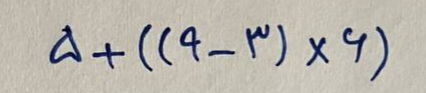character: (48, 25, 84, 65), (372, 28, 390, 81), (91, 43, 127, 69), (246, 24, 271, 60), (343, 29, 368, 65), (181, 27, 202, 63), (137, 23, 151, 71), (157, 28, 174, 67), (306, 39, 330, 65), (276, 24, 287, 66), (209, 50, 236, 66)
